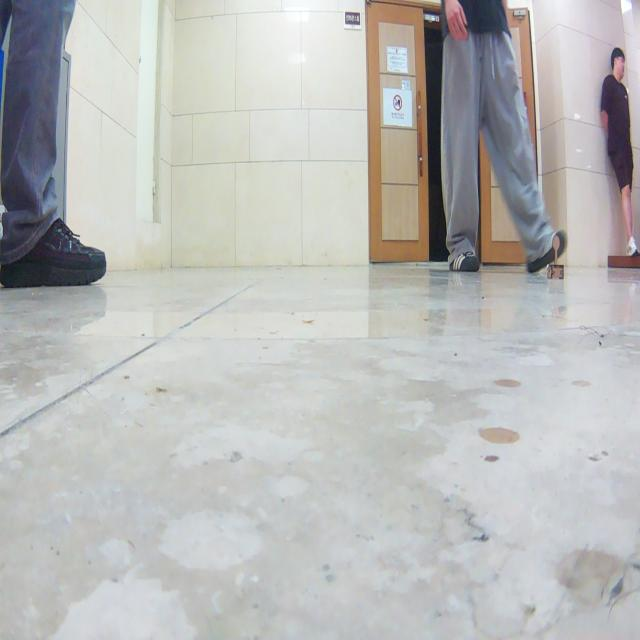target: (547, 236, 565, 280)
